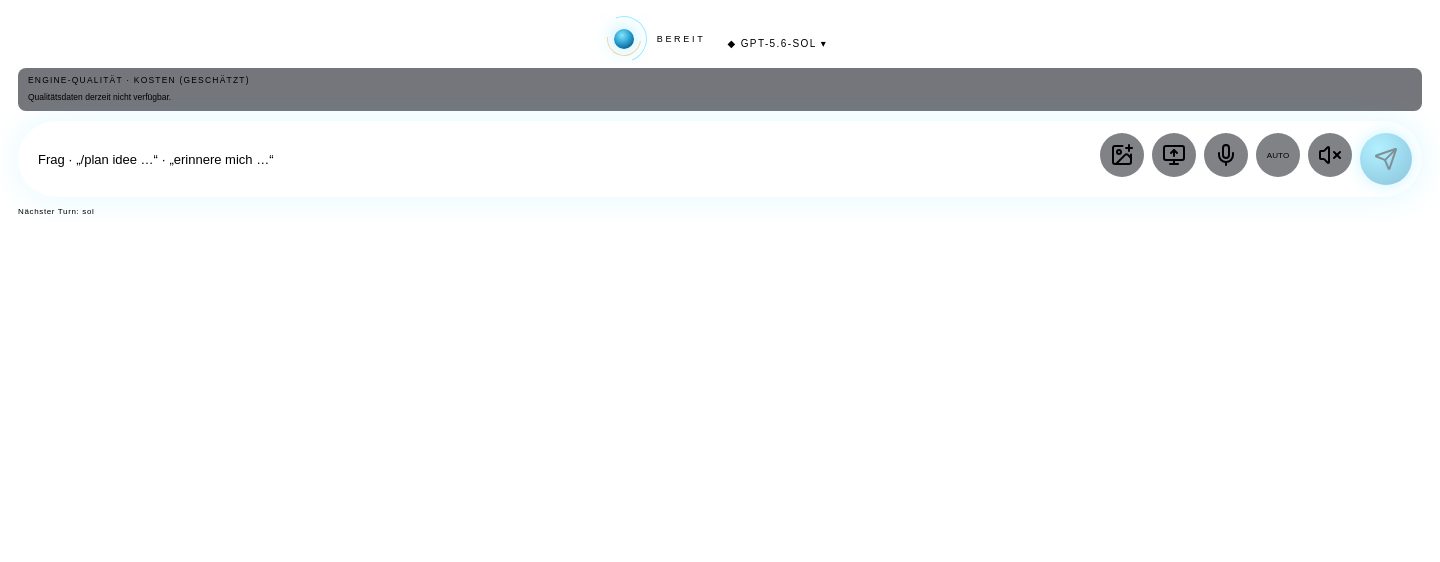
PlanspecDraft (/plan-Flow, Wire aus pa_planspec.py) › 400 beim Propose (BLOCK/stale): Fehlerzeile an der Card, Retry bleibt möglich
Type "/plan mache einen Health-Report" into the field named "Nachricht an Jarvis" at [564, 159], box [38, 137, 1090, 181]
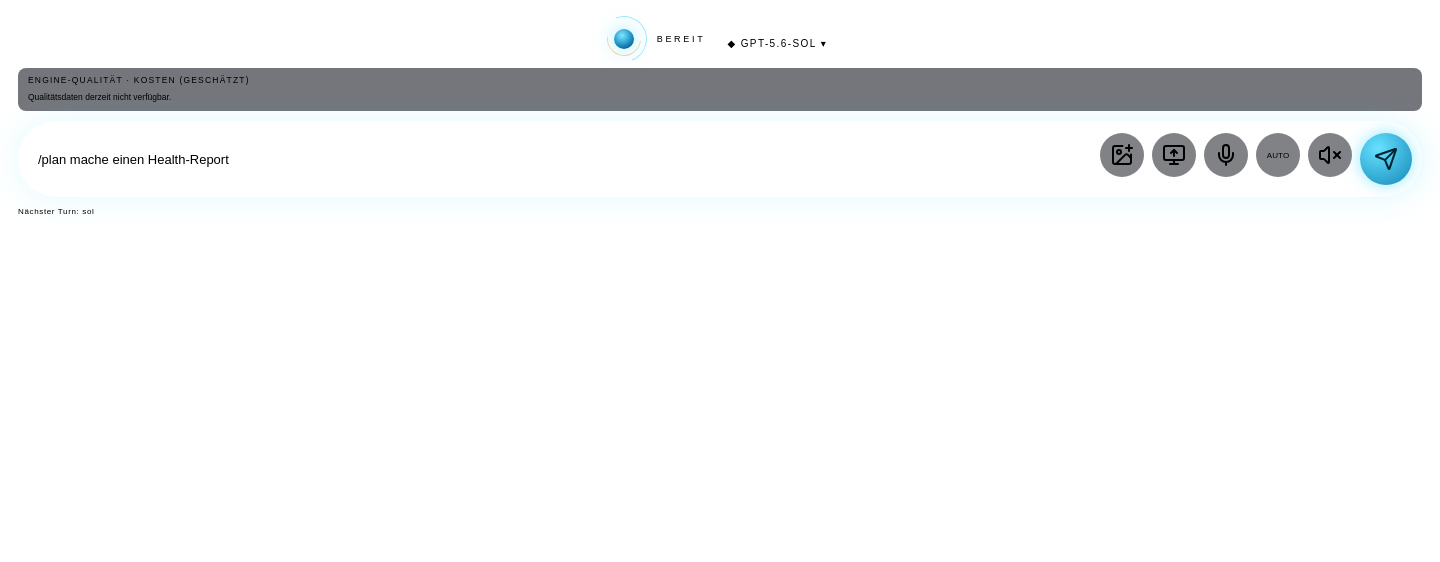
Click the button named "Nachricht senden" at [1386, 159], box [1360, 133, 1412, 185]
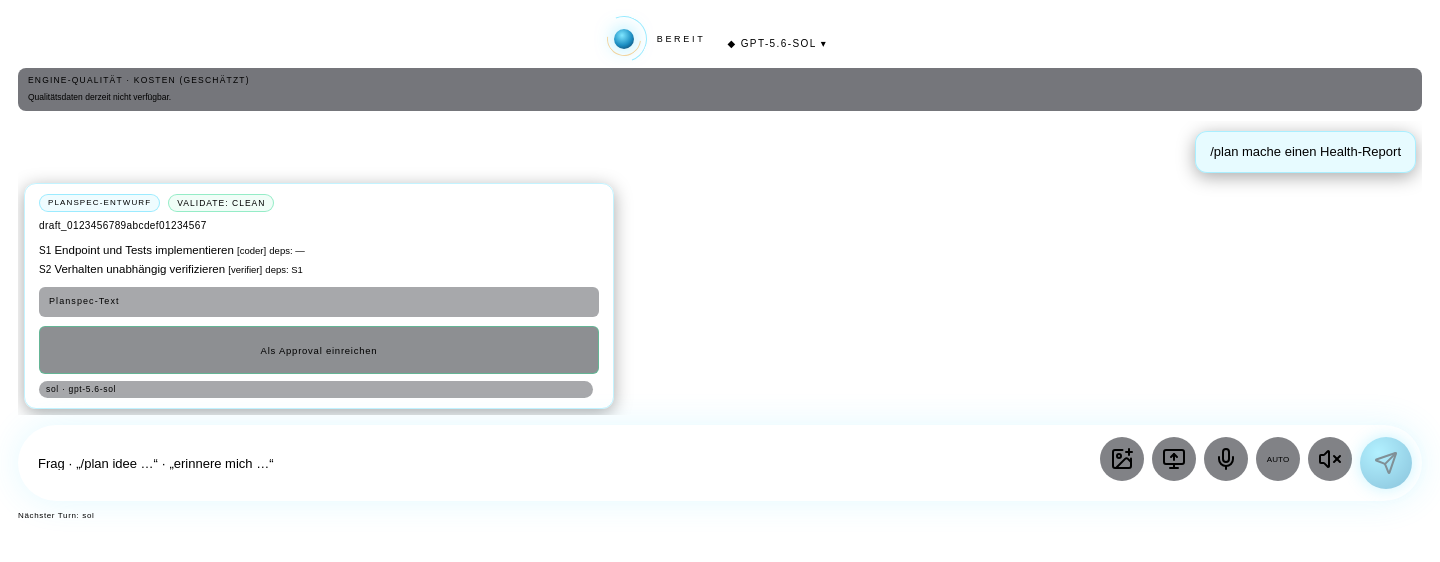
Click the button "Als Approval einreichen" at [319, 350], box [39, 326, 599, 374]
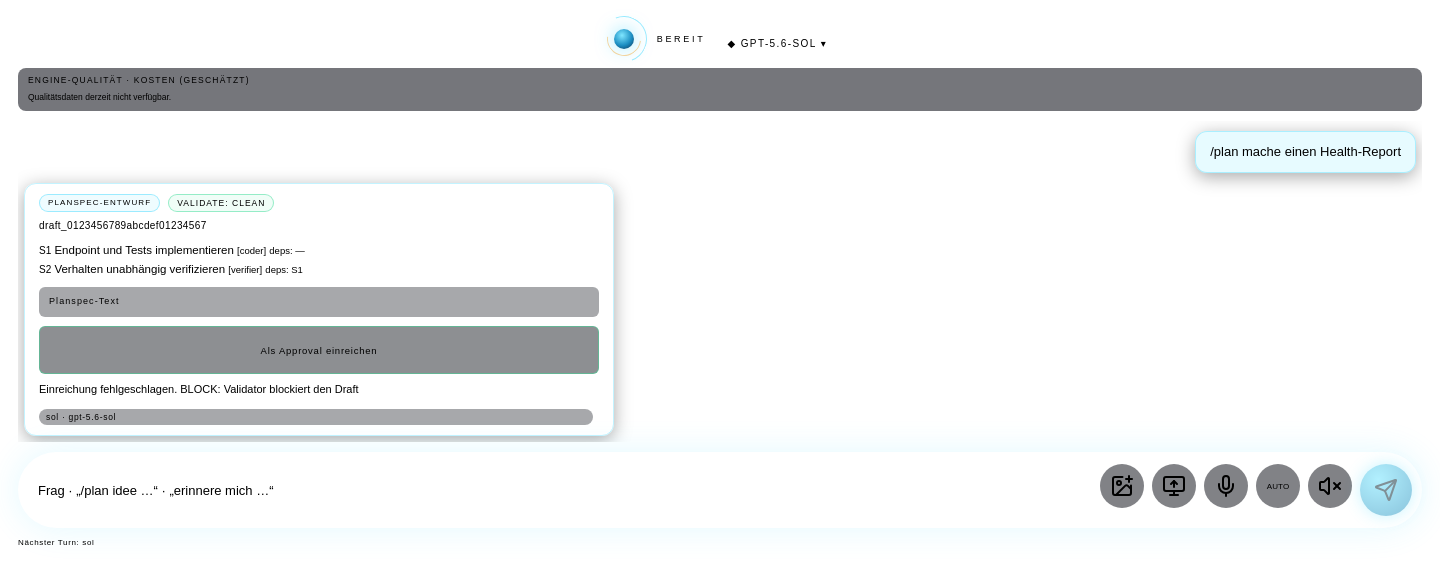
Expected: the button "Als Approval einreichen" is enabled, [39, 326, 599, 374]
Expected: the message shows "Einreichung fehlgeschlagen.", [39, 383, 359, 395]
Expected: the message shows "BLOCK: Validator blockiert den Draft", [39, 383, 359, 395]
